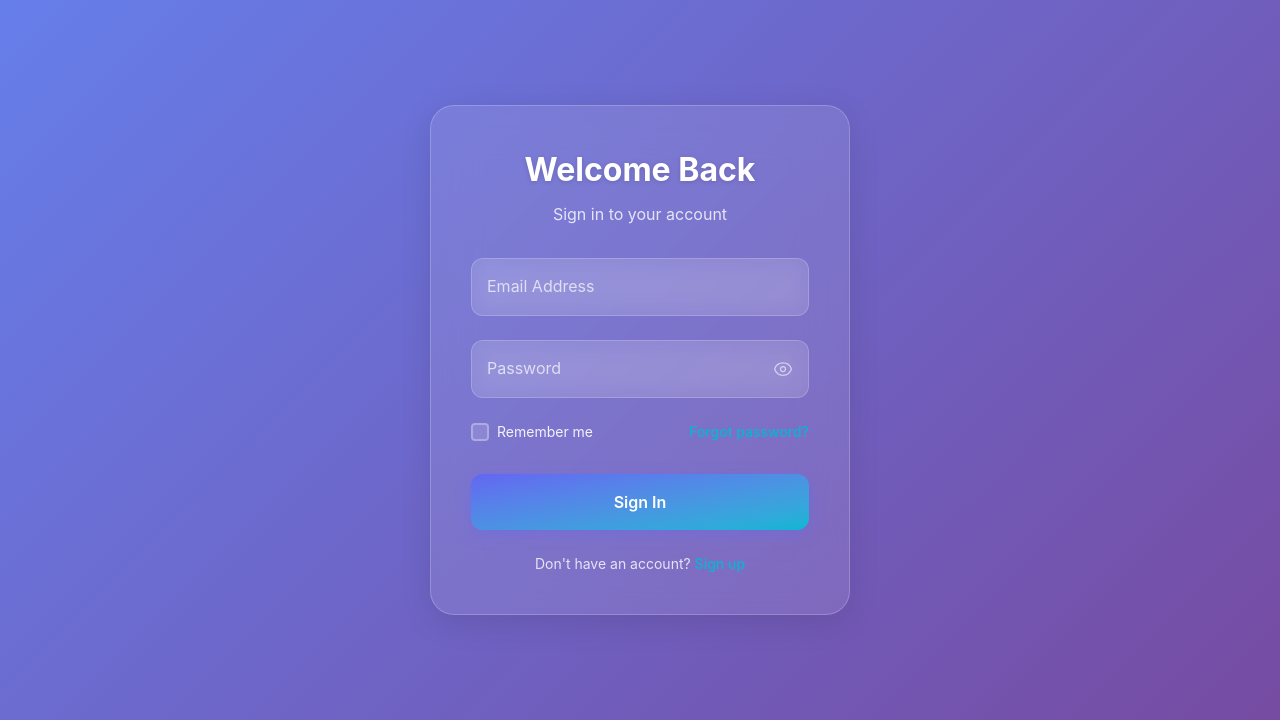
Login Component (UC-01) - Integration Test › nên hiển thị lỗi khi bỏ trống hoặc nhập sai định dạng email
This screenshot has width=1280, height=720.
Click the button "Sign In". click: (640, 502)
box: [471,474,809,530]
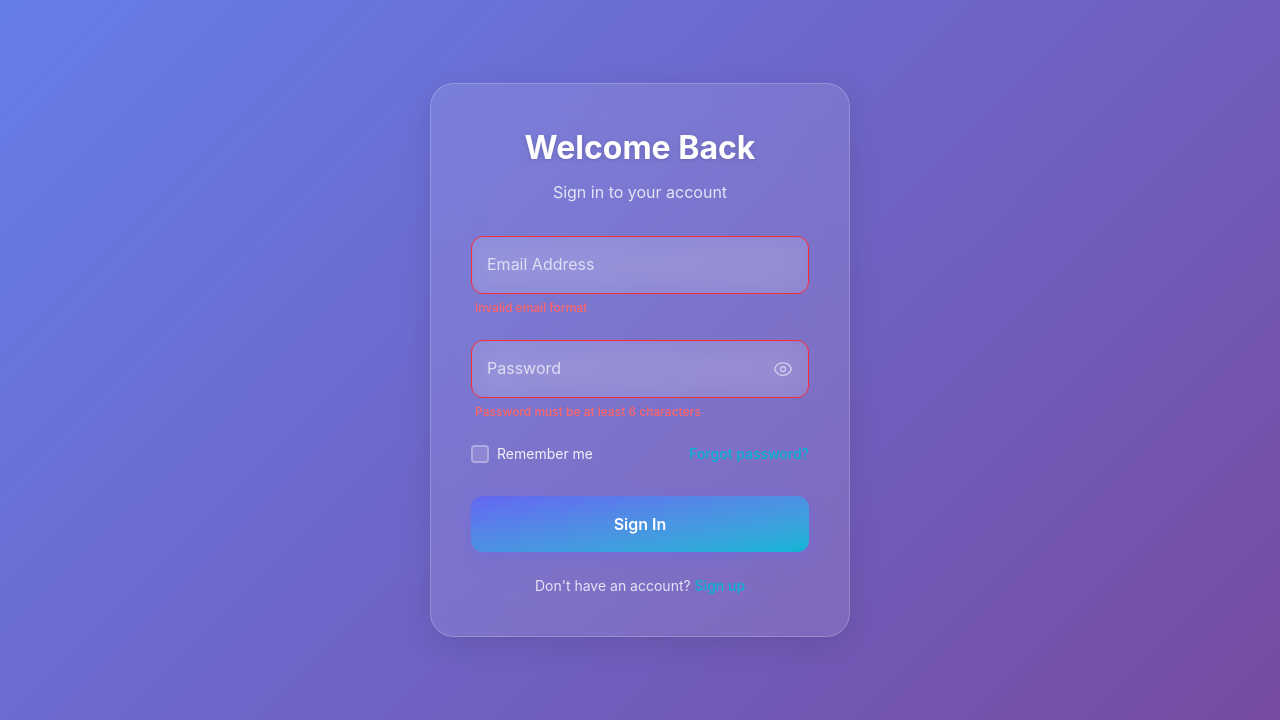
Check: the text "Invalid email format" is shown, box [475,300,587,315]
